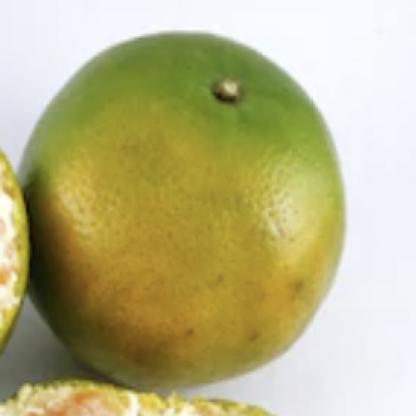fresh: (13, 30, 345, 394)
